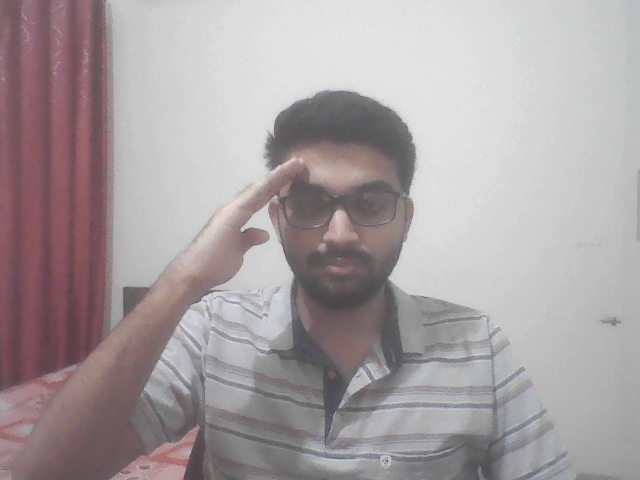hello: (150, 132, 308, 357)
